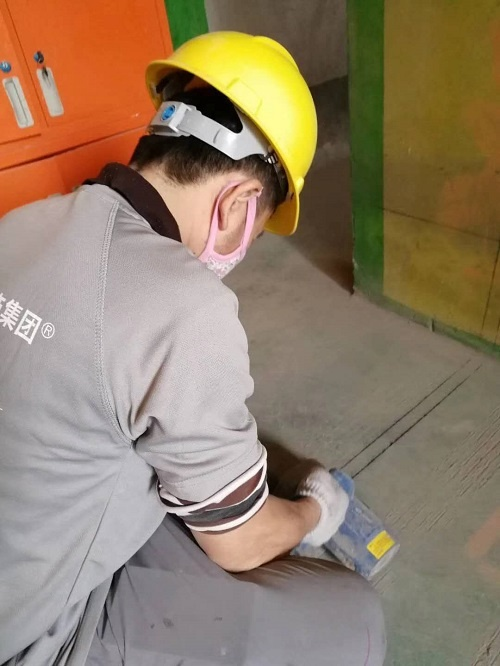yellow: (123, 29, 322, 272)
